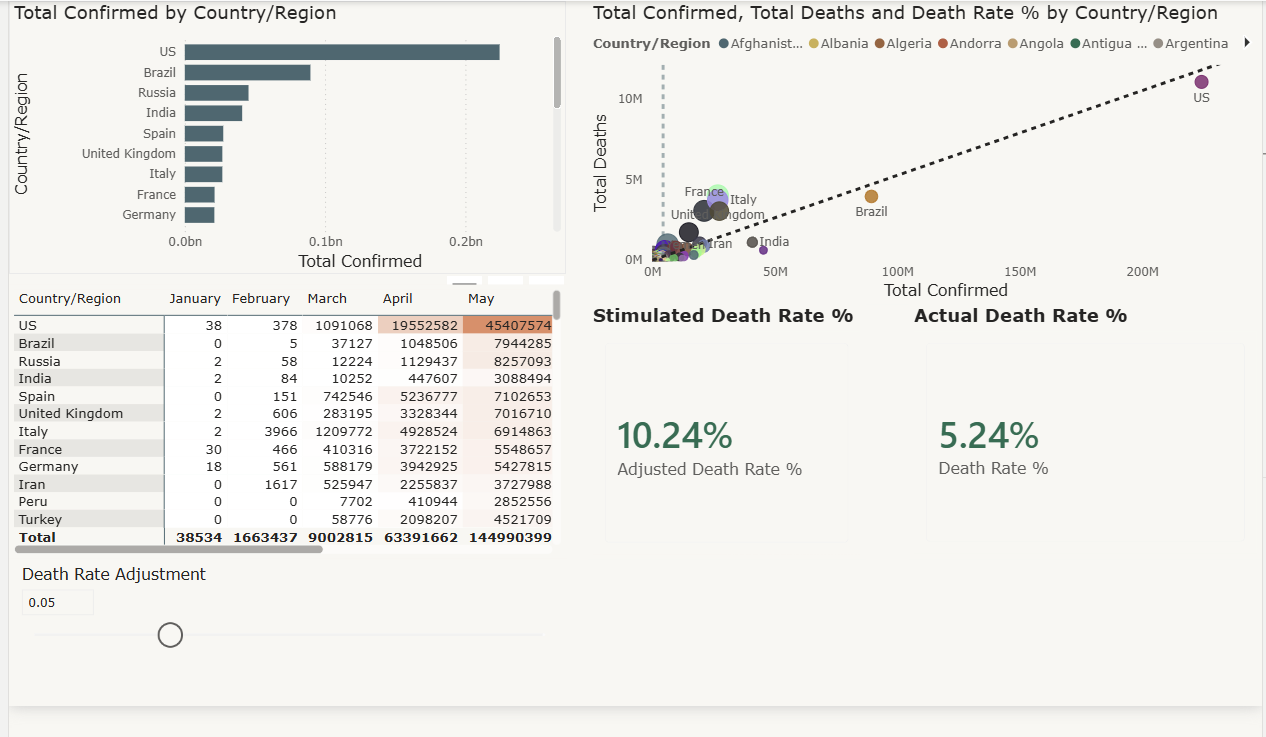

The dashboard page shown, as its layout file describes it:
{"tool":"powerbi","page":{"name":"Country Comparison","canvas":[1280,720],"ordinal":1},"visuals":[{"type":"clusteredBarChart","fields":{"Y":["Table.Total Confirmed"],"Category":["COVID.Country/Region"]},"box":[0,0,568.8,279.7],"z":0},{"type":"pivotTable","fields":{"Rows":["COVID.Country/Region"],"Columns":["Date.Month Name"],"Values":["Table.Total Confirmed"]},"box":[0,290,569,280],"z":1000},{"type":"scatterChart","fields":{"X":["_Measures.Total Confirmed"],"Y":["_Measures.Total Deaths"],"Size":["_Measures.Death Rate %"],"Series":["COVID.Country/Region"]},"box":[591.5,0,687.9,309.9],"z":2000}]}

Visuals, with their boxes on the page's 1280x720 design canvas (x1, y1, x2, y2). These are canvas units, not pixel positions in the 1266x737 screenshot, which may show the page scaled, cropped or inside an application window:
clusteredBarChart - Table.Total Confirmed x COVID.Country/Region: 0/0/569/280
pivotTable - COVID.Country/Region x Date.Month Name: 0/290/569/570
scatterChart - _Measures.Total Confirmed x _Measures.Total Deaths: 592/0/1279/310
